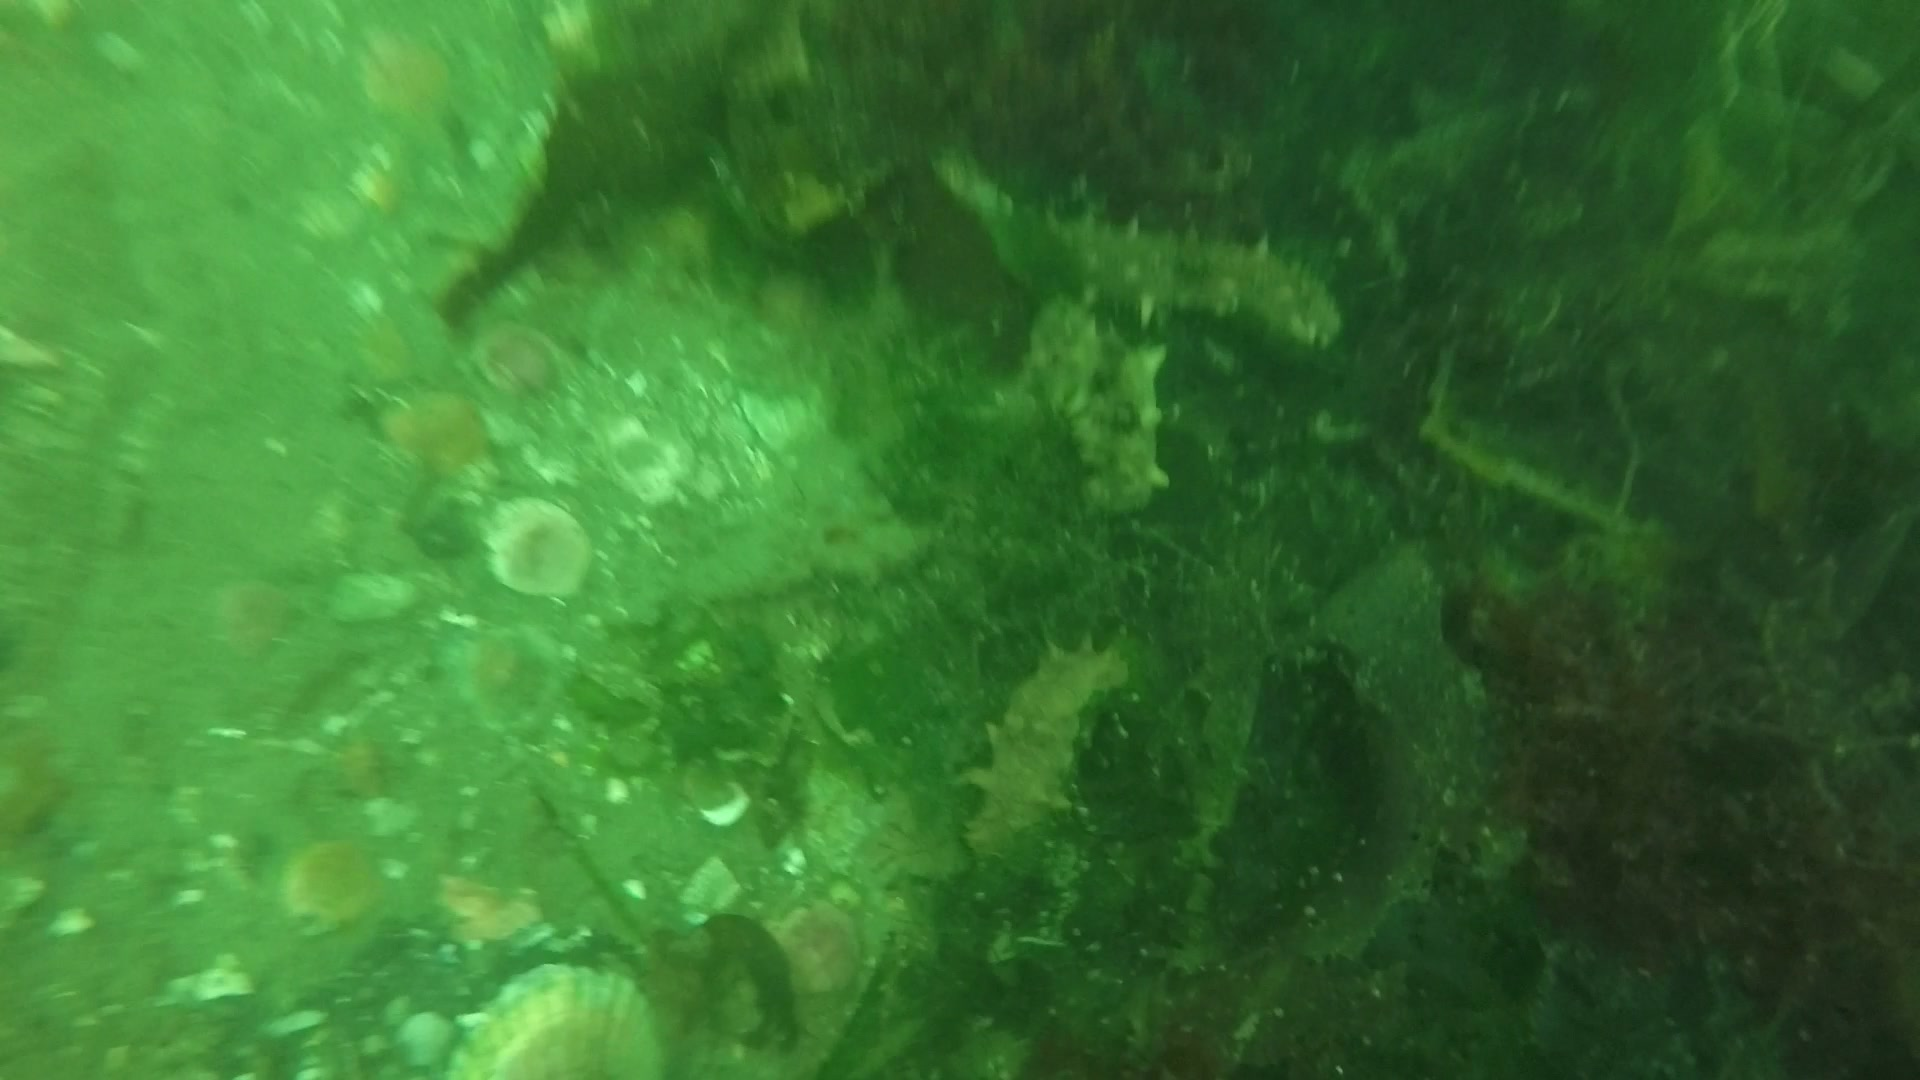holothurian: (1033, 212, 1357, 349), (949, 657, 1127, 905), (1022, 299, 1175, 516)
scallop: (433, 967, 645, 1080), (484, 495, 603, 597), (276, 837, 392, 932), (452, 629, 560, 731), (774, 898, 866, 996), (373, 390, 489, 465), (468, 328, 568, 402)
